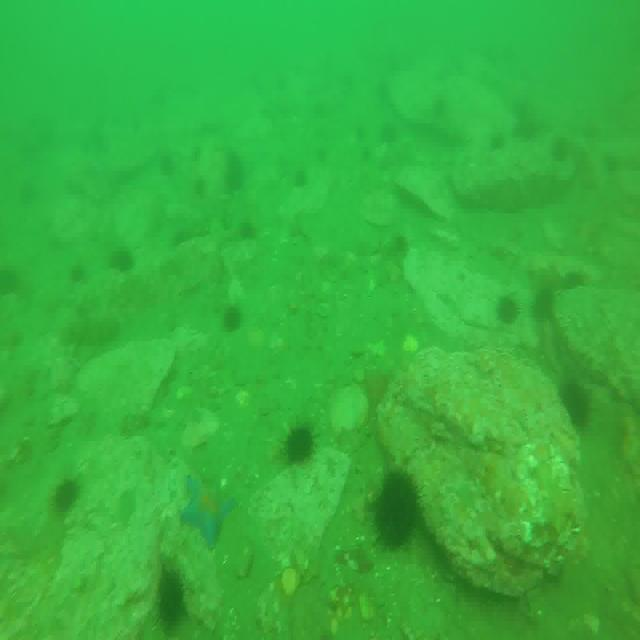echinus: (372, 471, 419, 548), (156, 570, 186, 632), (559, 378, 594, 429), (283, 422, 315, 465), (534, 283, 557, 330), (52, 478, 80, 516), (496, 294, 524, 330), (111, 239, 134, 274), (225, 153, 247, 189), (1, 266, 22, 298), (513, 119, 536, 148), (551, 134, 570, 167), (224, 304, 243, 334), (235, 217, 256, 243), (379, 123, 397, 148), (491, 134, 507, 158), (296, 168, 308, 188)
starfish: (182, 473, 237, 548)
